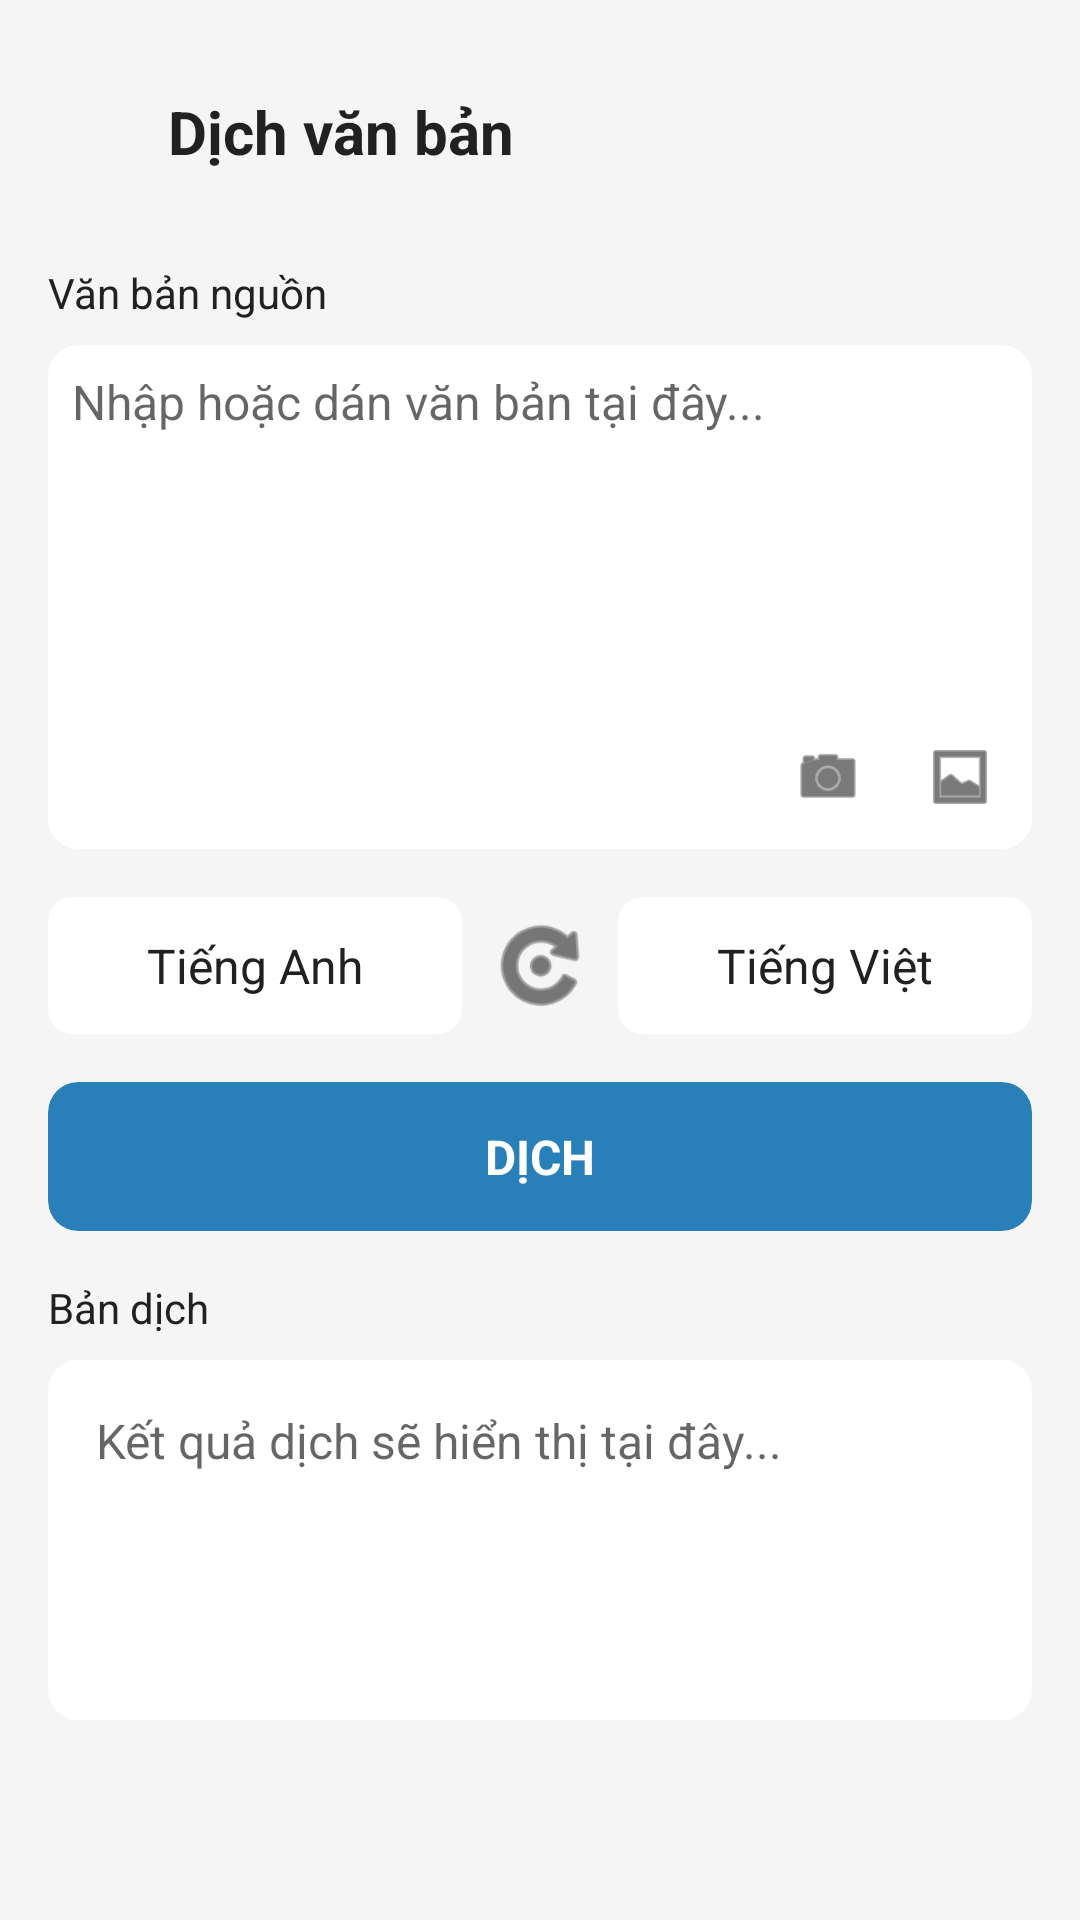

Icon bounding boxes for this 1080 x 1920 phone screenshot, format (x1, y1, x2, y2):
camera: (800, 754, 856, 798)
gallery: (933, 750, 987, 804)
rotate: (500, 925, 580, 1006)
